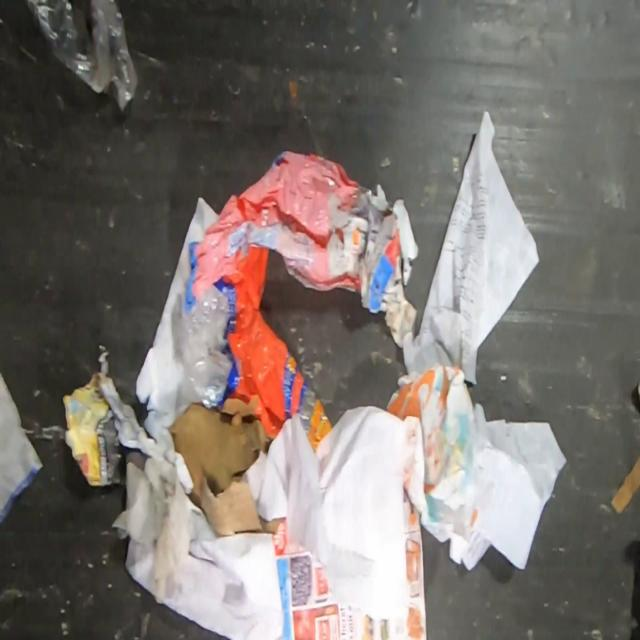cardboard: (168, 393, 286, 538)
soft_plastic: (179, 150, 363, 454), (26, 0, 139, 116)
